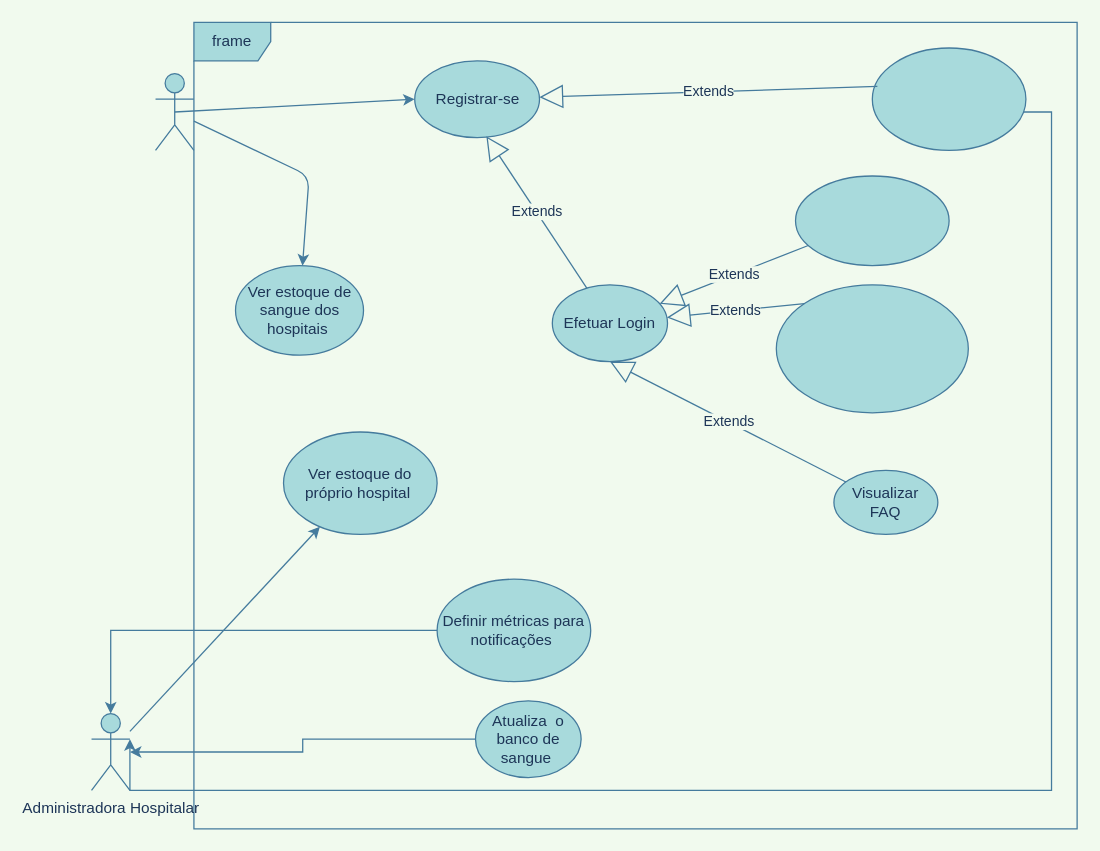
The diagram is 1100 pixels wide and 851 high, and some of its shapes have lost their labels. The box of each missing label's shape, as (x1, y1, x2, y2) in pixels:
Gostaria de ser avisado quando o tipo de sangue que ele tem estiver baixo: (775, 284, 968, 413)
Responder Questionario: (871, 47, 1026, 150)
User: (154, 72, 194, 150)
Ver hospital mais próximo de sua residencia: (794, 175, 949, 266)
